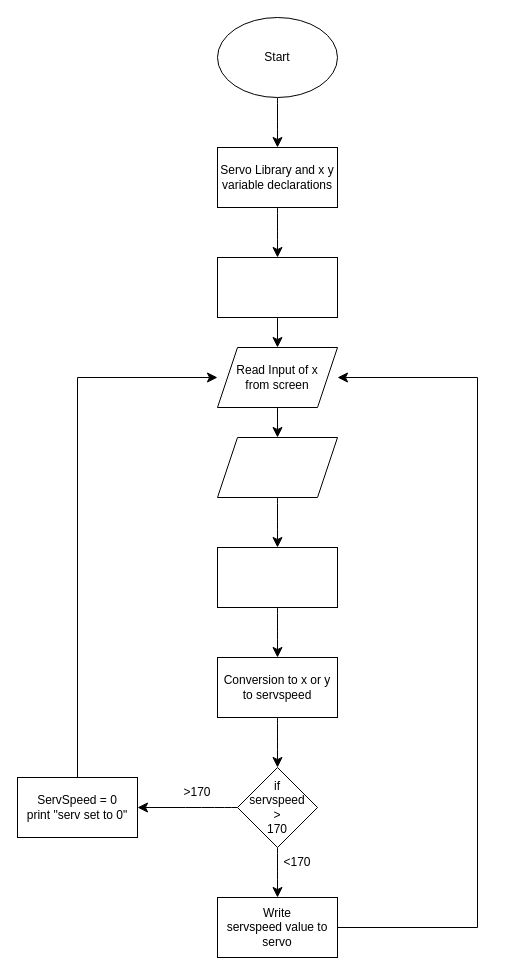
The diagram is 505 pixels wide and 975 high, and some of its shapes have lost their labels. Each missing label, with the box of its shape:
Print X and Y values: (216, 546, 338, 608)
Read input of y from screen: (216, 436, 338, 498)
Setup Servo pin and Serial read: (216, 256, 338, 318)
